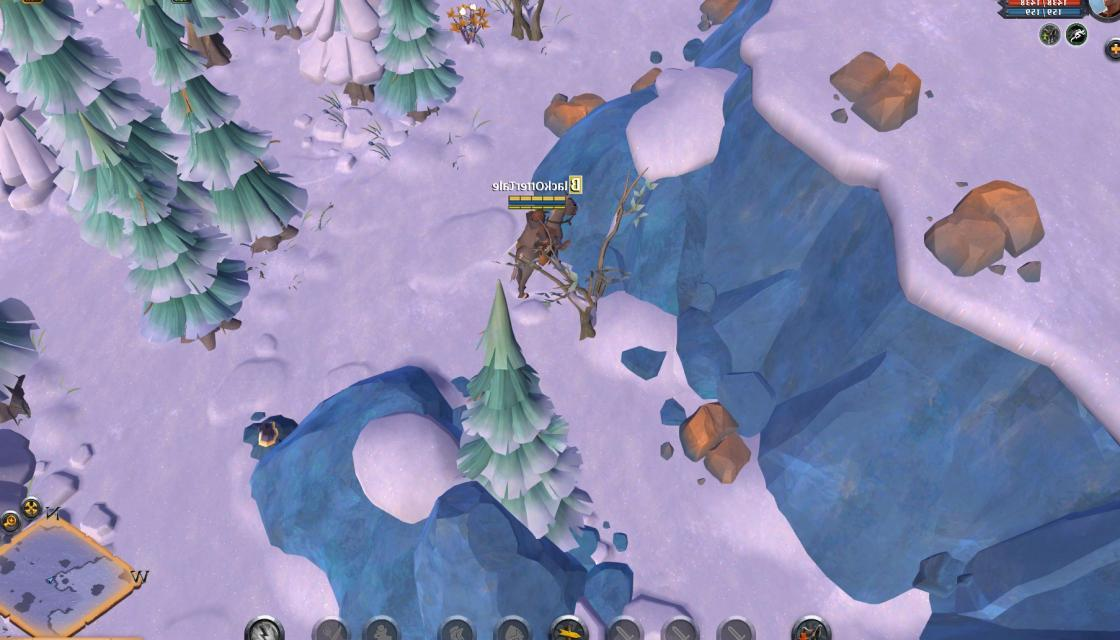copperore: (243, 404, 300, 458)
limestone: (924, 176, 1050, 286), (824, 50, 928, 135), (676, 397, 756, 487), (543, 82, 608, 138), (626, 60, 673, 102), (693, 0, 746, 37)
